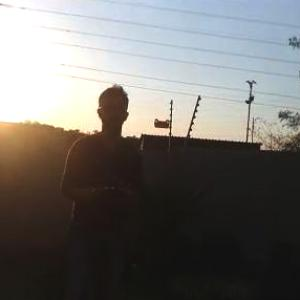follow: (47, 70, 142, 299)
